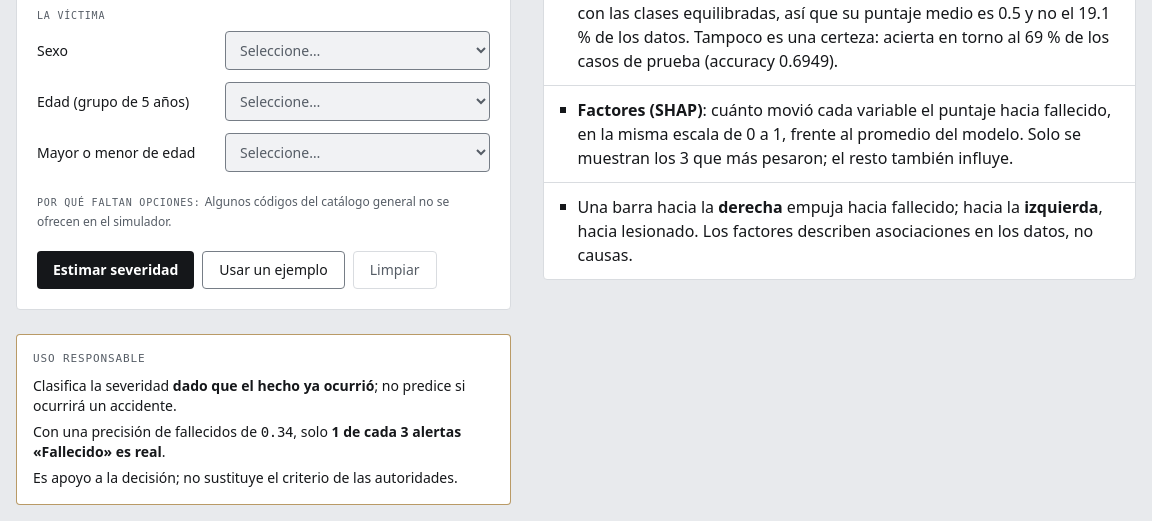
Test: Simulador › enviar vacío marca los campos y lleva el foco al primero
This screenshot has width=1152, height=521.
(page scrolled)
Click the button "Estimar severidad": (116, 270) [37,251,194,289]
(page scrolled)
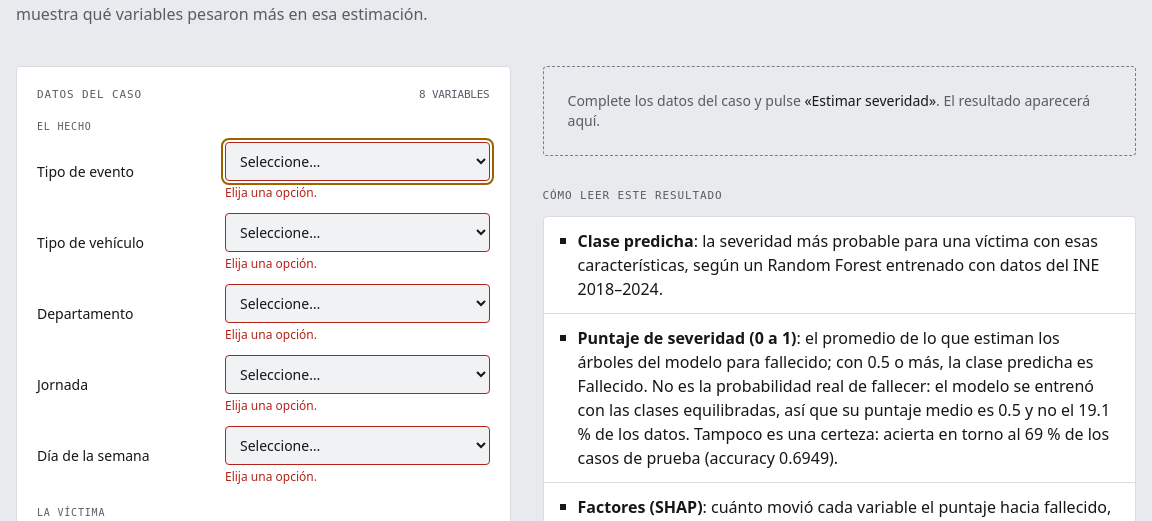
Check: the text "Elija una opción." is shown 8 times
